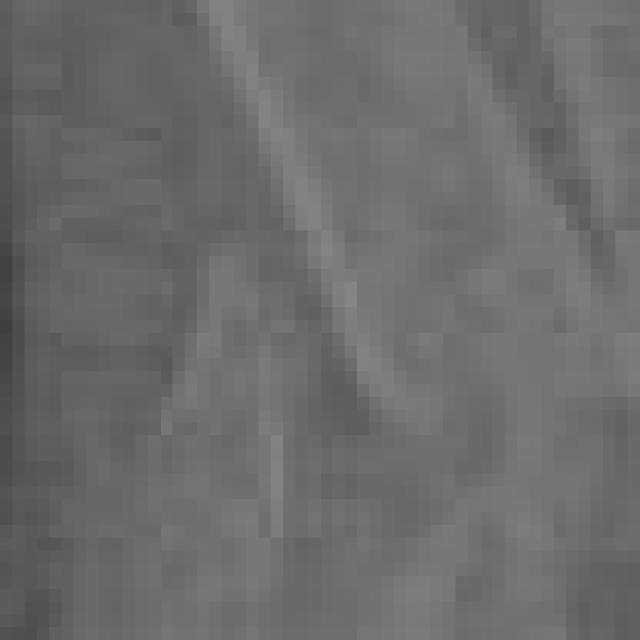fracture: (4, 0, 640, 640)
